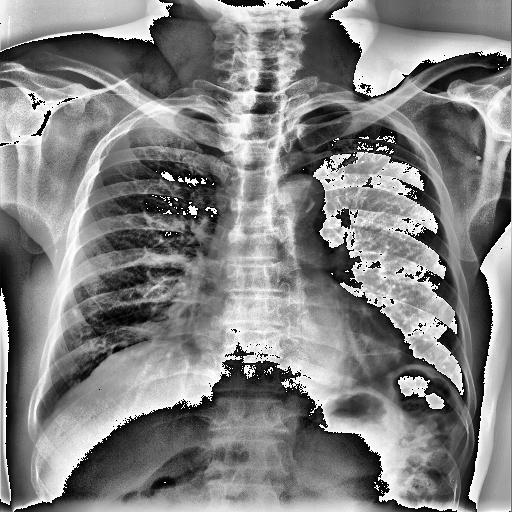0- Aortic enlargement: (268, 172, 325, 245), (272, 174, 328, 216), (276, 172, 325, 213)
11- Pleural thickening: (132, 103, 218, 121), (351, 101, 403, 128), (132, 107, 192, 126)
